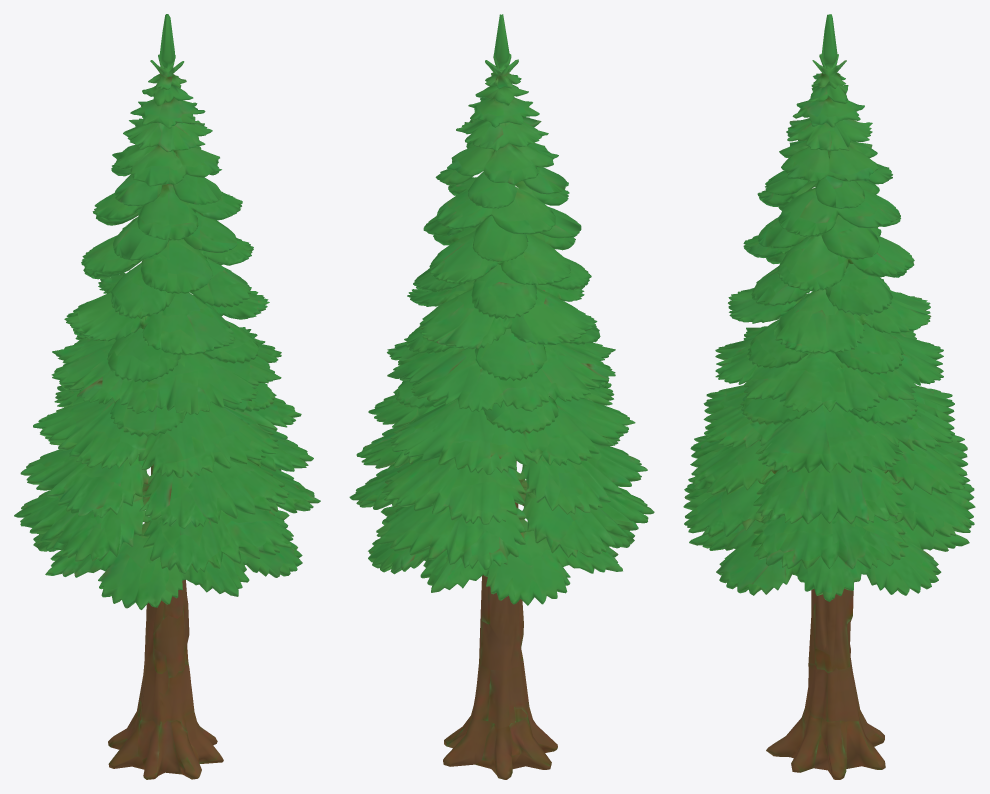
Rendered from tree_pine.glb.
3 views of the same model, side by side, from view 1: azimuth 30°, elevation 25°; view 2: azimuth 150°, elevation 25°; view 3: azimuth 270°, elevation 25° (orthographic).
Size of the model in its own units: 0.678 by 1.9 by 0.6787.
Materials: 1 (1 with a texture image).
